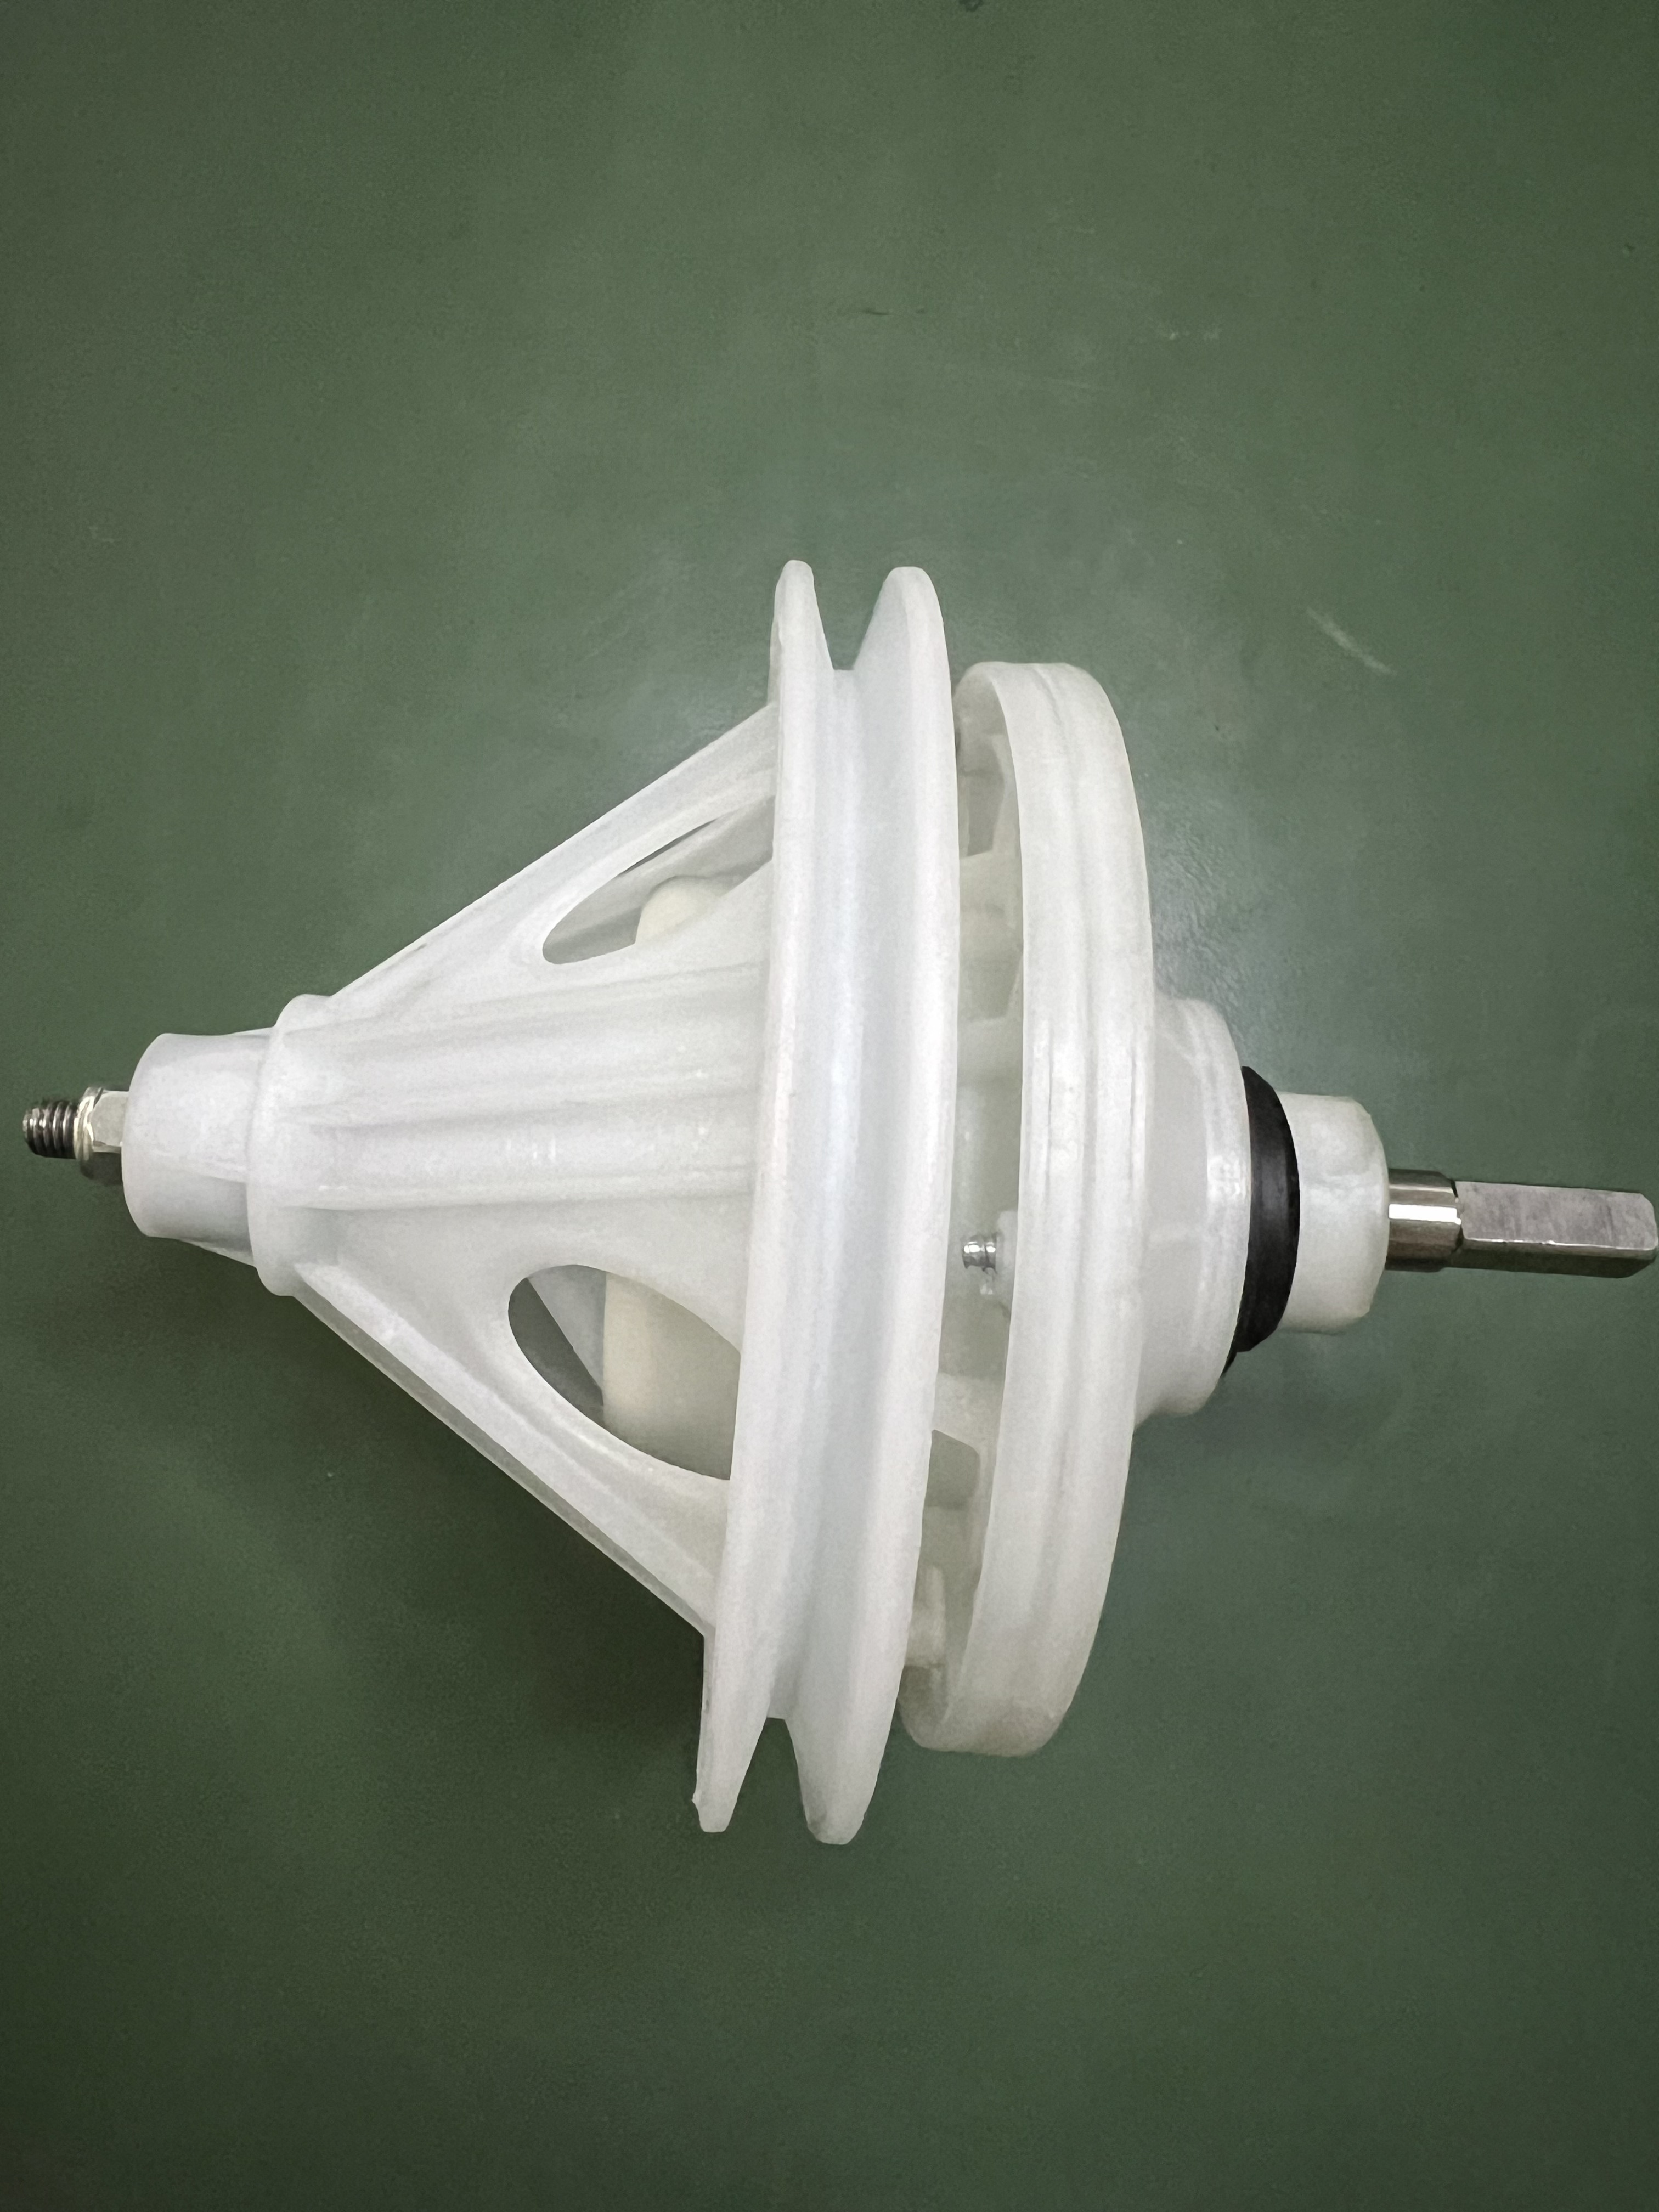gear_box_ovul: (61, 543, 1659, 1789)
